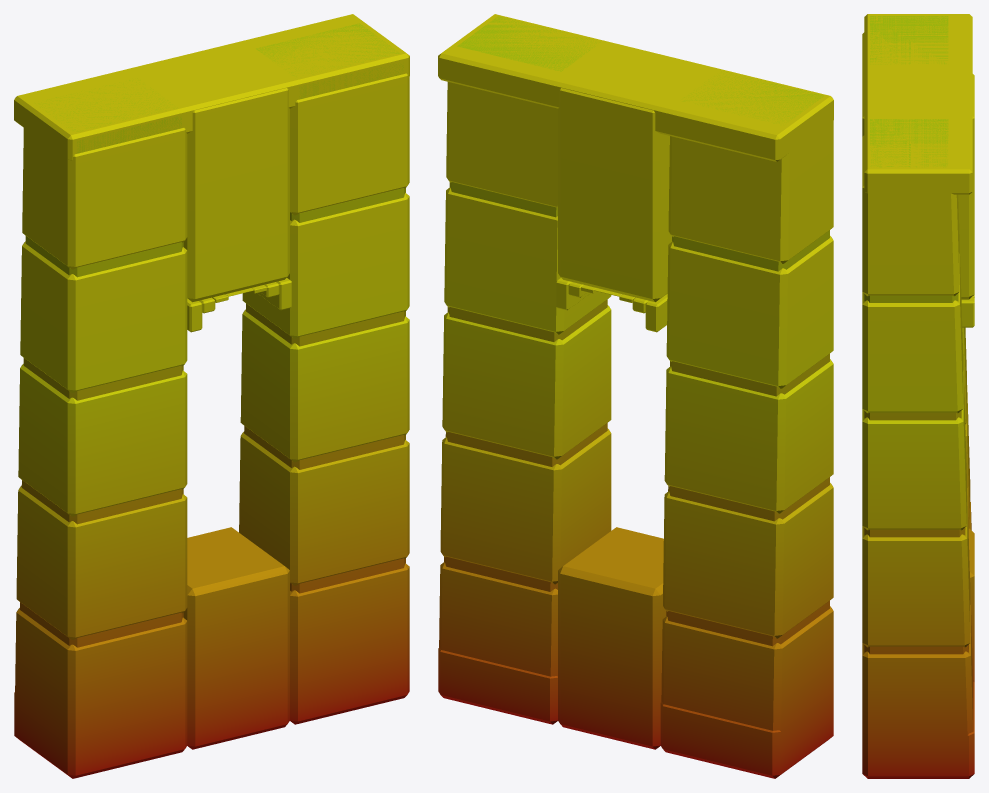
Rendered from wall_window.glb.
The picture shows the model from 3 angles, left to right: view 1: azimuth 30°, elevation 25°; view 2: azimuth 150°, elevation 25°; view 3: azimuth 270°, elevation 25°; orthographic projection. The views are drawn at different scales.
Visible parts, largest first — view 1: wall_window; view 2: wall_window; view 3: wall_window.
Boxes of the visible parts, left/top/right/bottom form: wall_window: left=14, top=14, right=409, bottom=778; wall_window: left=438, top=14, right=833, bottom=778; wall_window: left=862, top=14, right=974, bottom=778.
Size of what is drawn, in the model's own units: 2 by 3.6 by 0.6.
